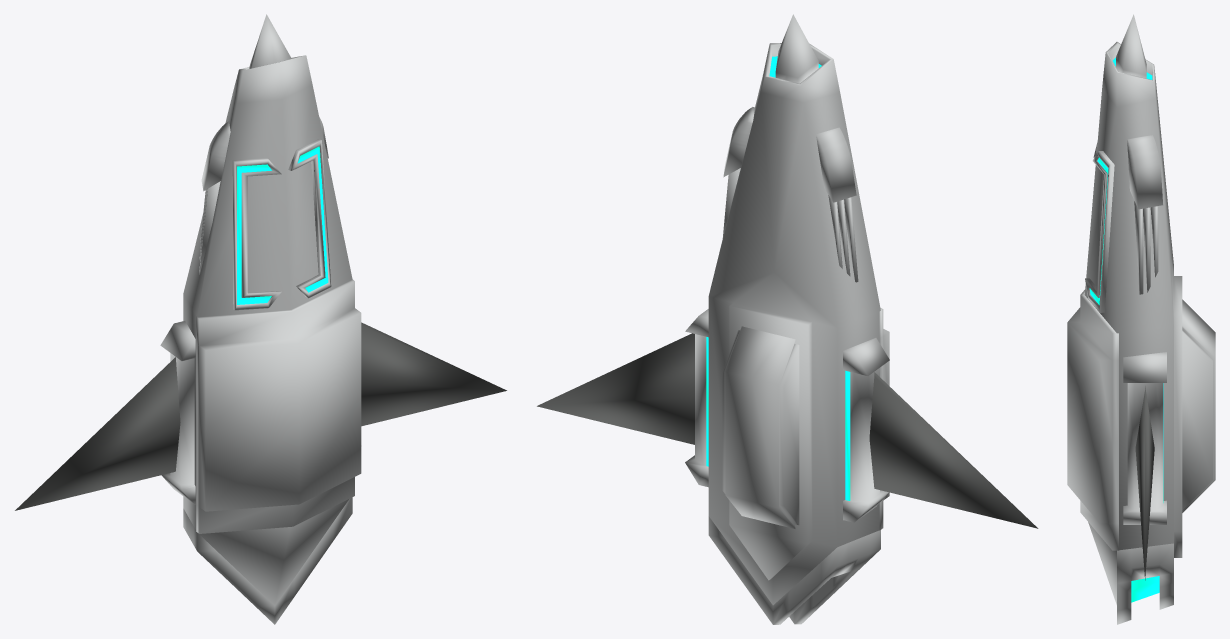
3 views of the same model, side by side, from view 1: azimuth 30°, elevation 25°; view 2: azimuth 150°, elevation 25°; view 3: azimuth 270°, elevation 25° (orthographic).
Parts seen in each view (by area): view 1: main_ship; view 2: main_ship; view 3: main_ship.
Boxes of the visible parts, <box> form: main_ship: <box>15,14,506,624</box>; main_ship: <box>537,14,1038,624</box>; main_ship: <box>1067,14,1215,624</box>.
Bounding box in the file's own units: 1.27 × 1.49 × 0.3266.
